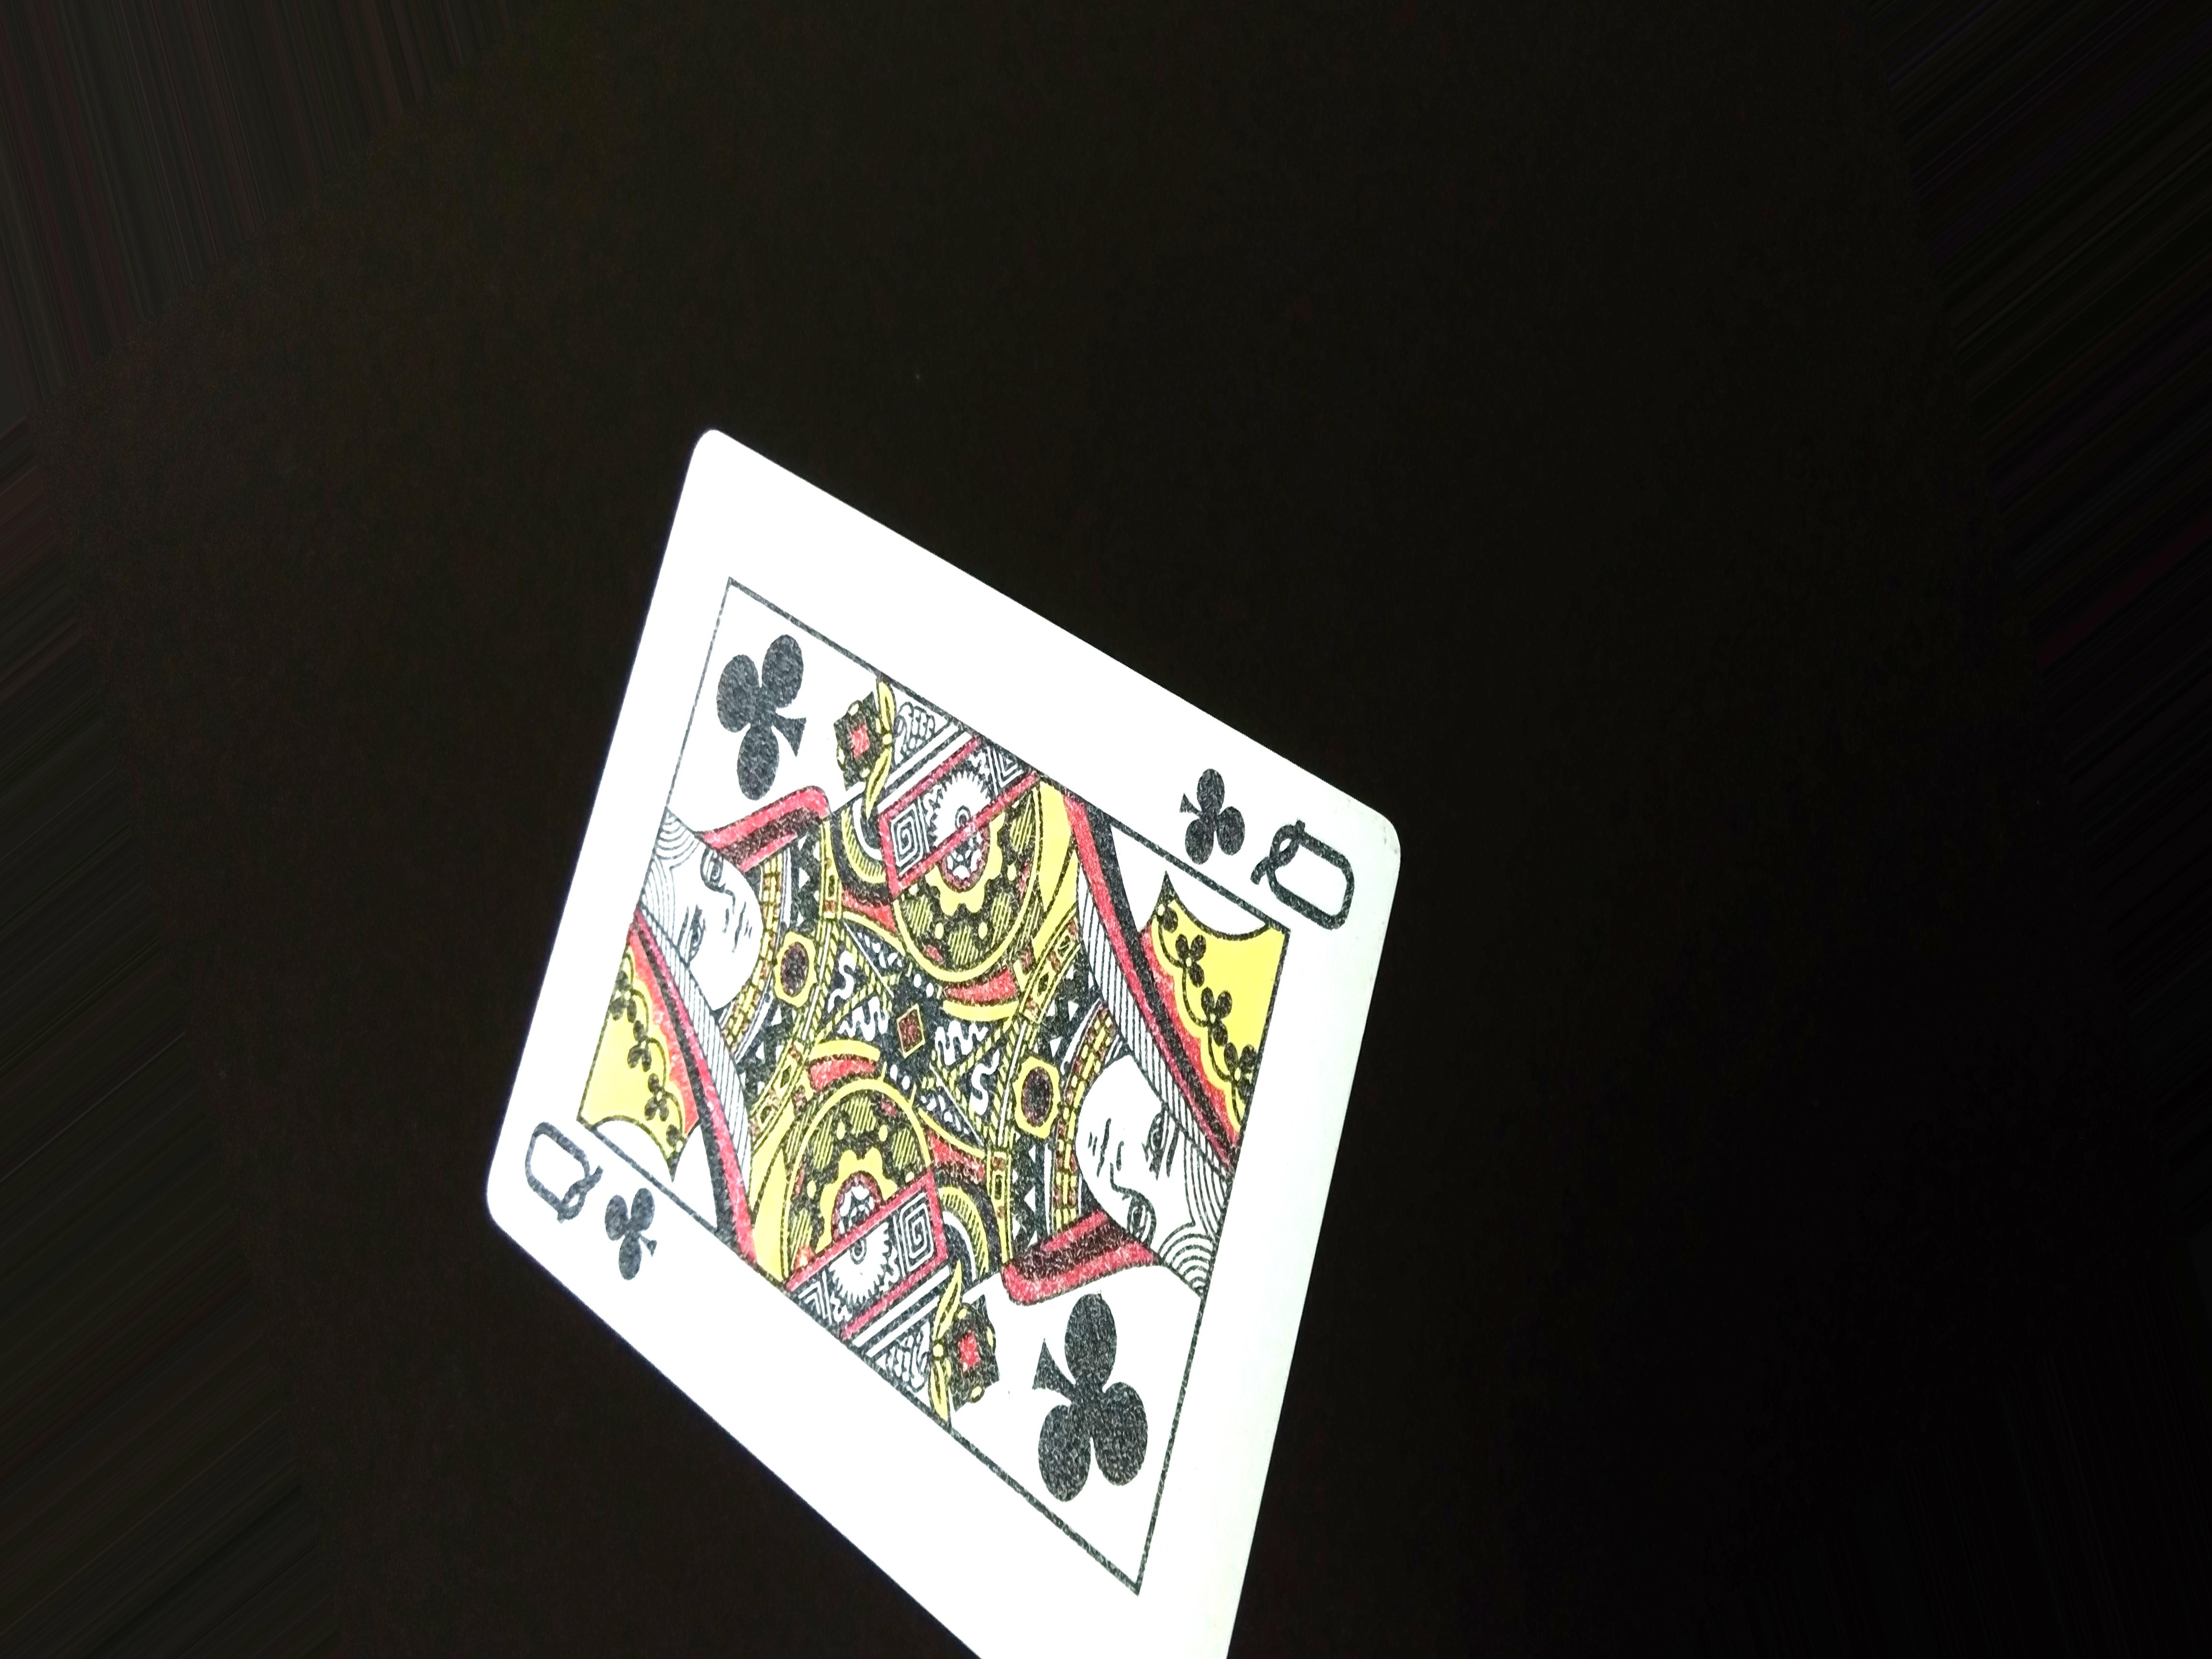QC: (1146, 763, 1366, 941)
